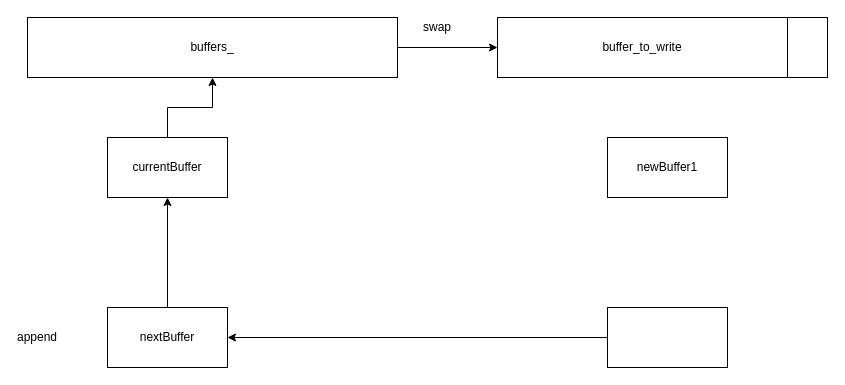
Image size: 845x385. Some labels were removed from this diagram. The shapes that lost their labels are listed below. From the top down, each one's box as (x1, y1, x2, y2) in pixels, then its label:
(786, 16, 828, 78): back
(606, 306, 728, 368): newBuffer2
